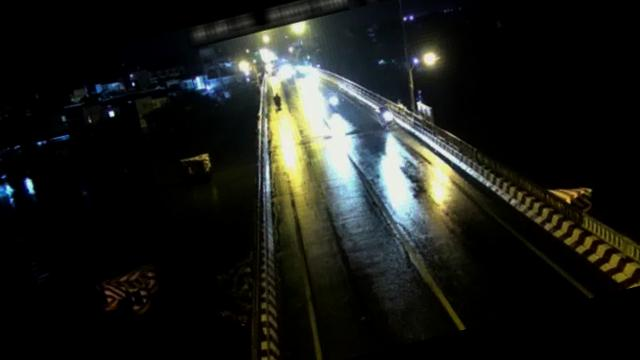Bike: (375, 105, 396, 128), (329, 93, 340, 109)
